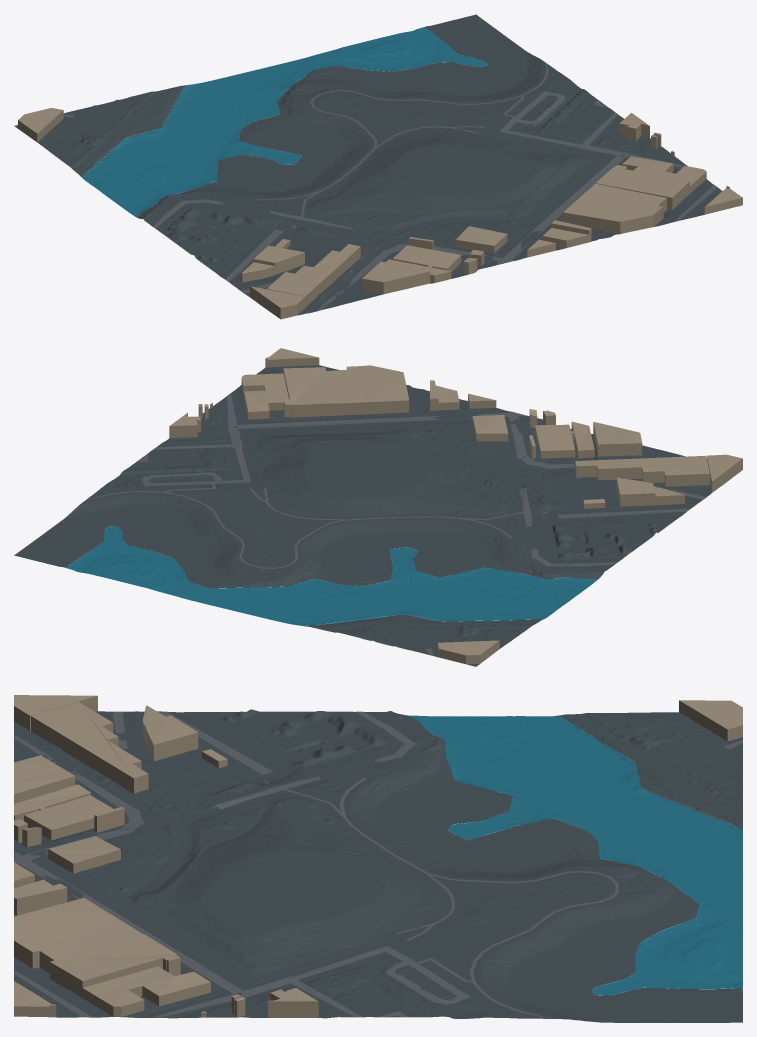
Rendered from epsg26910-1443-10873.lod0.glb.
3 views of the same model, one above another, from view 1: azimuth 30°, elevation 25°; view 2: azimuth 150°, elevation 25°; view 3: azimuth 270°, elevation 25° (orthographic). The views are drawn at different scales.
Parts seen in each view (by area): view 1: epsg26910-1443-10873-lod0; view 2: epsg26910-1443-10873-lod0; view 3: epsg26910-1443-10873-lod0.
Boxes of the visible parts, x1,y1,x2,y2 form: epsg26910-1443-10873-lod0: [14, 14, 742, 319]; epsg26910-1443-10873-lod0: [14, 348, 742, 666]; epsg26910-1443-10873-lod0: [14, 695, 742, 1022].
Bounding box in the file's own units: 384 × 15.63 × 384.
